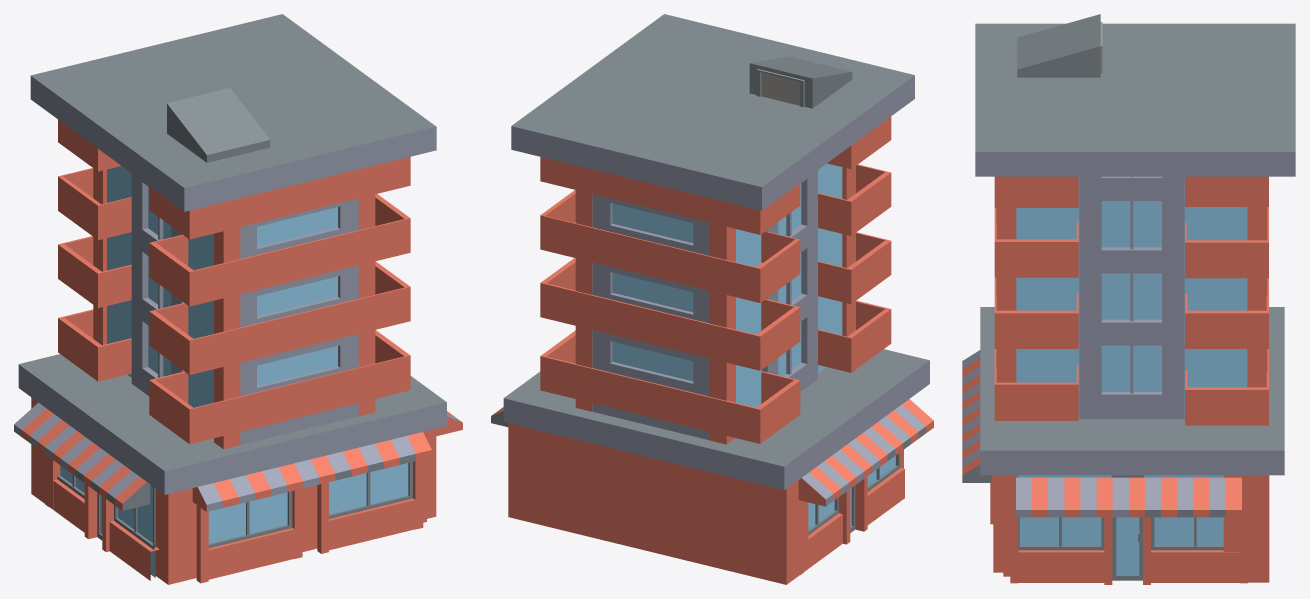
The model's file is putong_zhongxing04.fbx.
3 renders of one model, left to right at view 1: azimuth 30°, elevation 25°; view 2: azimuth 150°, elevation 25°; view 3: azimuth 270°, elevation 25°, orthographic. The views are drawn at different scales.
Visible parts, largest first — view 1: putong_zhongxing04005, putong_zhongxing04000, putong_zhongxing04002, putong_zhongxing04003, putong_zhongxing04004, putong_zhongxing04001; view 2: putong_zhongxing04005, putong_zhongxing04000, putong_zhongxing04002, putong_zhongxing04003, putong_zhongxing04004, putong_zhongxing04001; view 3: putong_zhongxing04005, putong_zhongxing04000, putong_zhongxing04002, putong_zhongxing04003, putong_zhongxing04004, putong_zhongxing04001.
Boxes of the visible parts, x1,y1,x2,y2 form: putong_zhongxing04005: (14,354,462,584); putong_zhongxing04000: (30,14,436,211); putong_zhongxing04002: (58,168,410,331); putong_zhongxing04003: (58,236,410,399); putong_zhongxing04004: (58,305,410,448); putong_zhongxing04001: (58,119,410,262); putong_zhongxing04005: (491,349,933,584); putong_zhongxing04000: (511,14,914,210); putong_zhongxing04002: (540,164,891,327); putong_zhongxing04003: (540,232,891,395); putong_zhongxing04004: (540,300,891,443); putong_zhongxing04001: (540,116,891,258); putong_zhongxing04005: (962,307,1284,584); putong_zhongxing04000: (975,14,1295,176); putong_zhongxing04002: (994,207,1268,296); putong_zhongxing04003: (994,277,1268,367); putong_zhongxing04004: (994,349,1268,425); putong_zhongxing04001: (994,176,1268,224).
Bounding box in the file's own units: 5.98 × 7.37 × 4.9.
